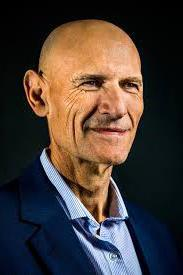face: (52, 20, 144, 163)
